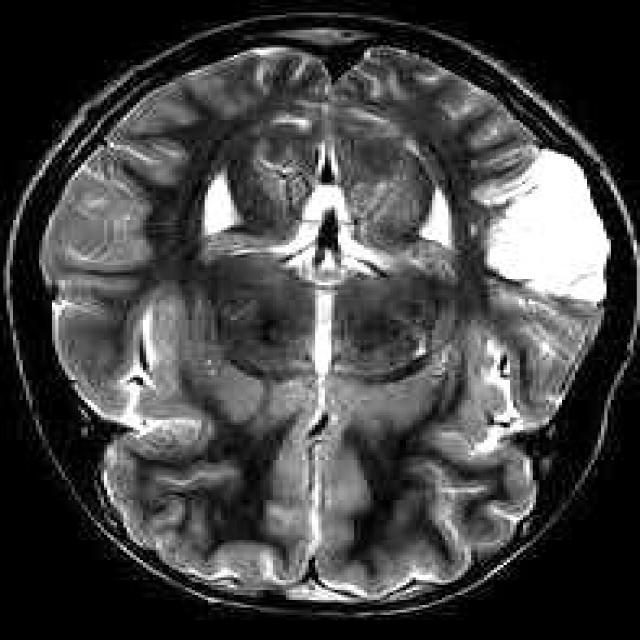Tumor: (490, 150, 610, 307)
